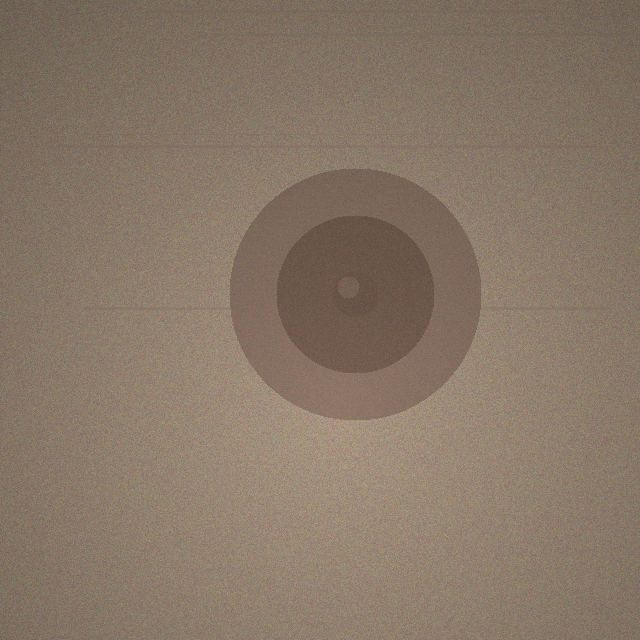good: (229, 168, 481, 420)
